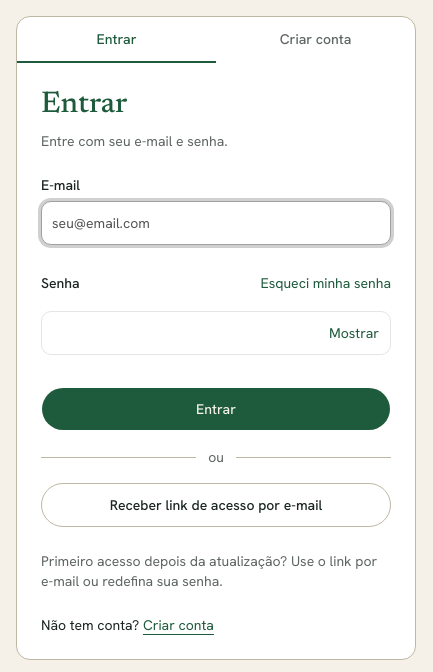
Test: EntrarForm (AUTH-05) › enquanto envia, o botao Entrar fica desabilitado e mostra 'Entrando…' (AUTH-05 critério 5)
Type "a@b.com" into the field labelled "E-mail".
click(216, 223); type("a@b.com")  # box [41,201,391,245]
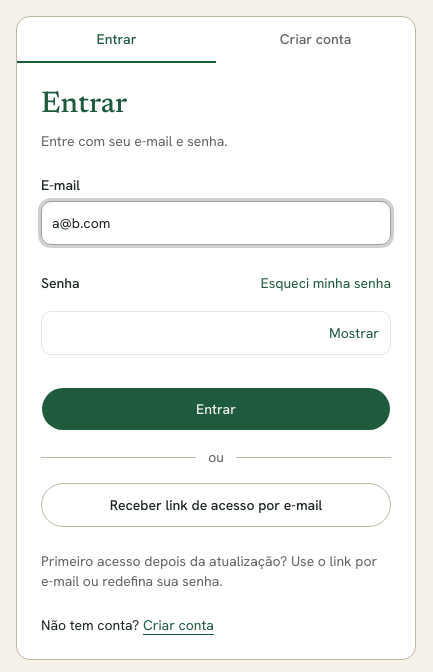
Type "abc12345" into the password field labelled "Senha".
click(216, 333); type("abc12345")  # box [41,311,391,355]
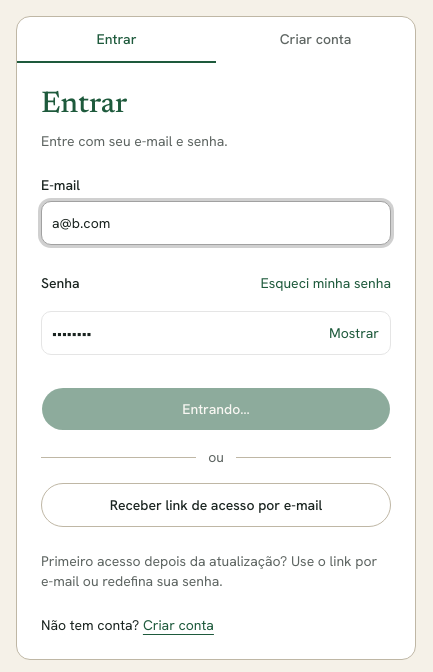
expect the button "Entrando…" is disabled: met, box [41,387,391,431]
